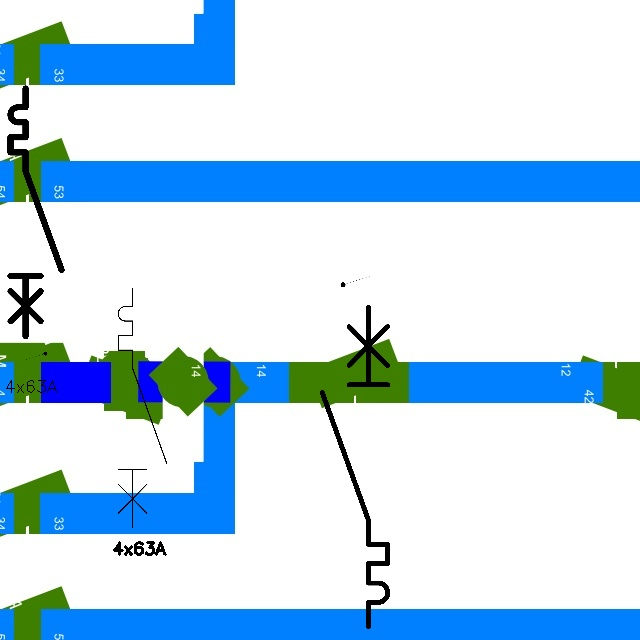interruptor_termomagnetico: (314, 299, 396, 635), (4, 82, 67, 342), (112, 282, 173, 534)
